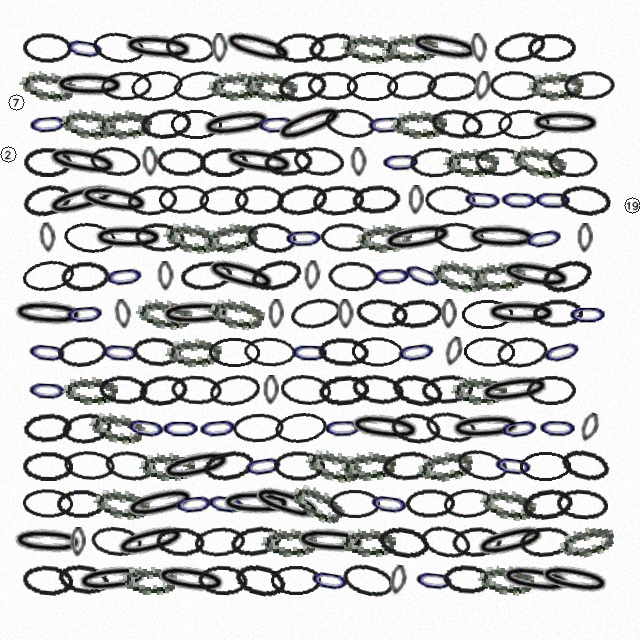chain: (270, 97, 350, 151), (247, 479, 327, 529), (218, 24, 298, 72), (42, 176, 122, 224), (201, 252, 281, 300), (111, 518, 191, 565), (471, 518, 551, 565), (121, 481, 200, 526), (157, 444, 236, 488), (405, 26, 484, 69), (43, 141, 122, 183), (535, 559, 614, 601), (75, 179, 153, 221), (379, 217, 457, 259), (286, 478, 349, 529), (497, 255, 575, 296), (198, 104, 276, 144), (220, 142, 298, 182), (476, 370, 554, 410), (152, 560, 230, 600), (497, 560, 575, 600), (346, 409, 424, 447), (74, 561, 151, 598), (120, 30, 197, 66), (448, 410, 524, 445), (293, 524, 369, 559), (556, 520, 617, 563), (10, 297, 86, 331), (10, 525, 86, 559), (464, 221, 540, 254), (508, 141, 569, 182), (200, 217, 261, 258), (428, 255, 489, 296), (303, 445, 364, 486), (339, 559, 397, 601), (158, 298, 234, 330), (415, 446, 475, 486), (538, 255, 595, 297), (87, 408, 147, 447), (491, 27, 548, 68), (454, 445, 511, 486), (52, 70, 127, 101), (528, 108, 603, 139), (484, 298, 559, 329), (219, 488, 294, 519), (248, 255, 304, 296), (478, 485, 538, 523), (558, 445, 613, 486), (418, 521, 473, 562), (91, 223, 166, 253), (389, 370, 445, 410), (232, 560, 288, 600), (20, 180, 75, 220), (288, 294, 344, 333), (423, 408, 479, 447), (18, 67, 77, 104), (162, 219, 221, 256), (207, 295, 266, 332), (92, 485, 151, 522), (398, 254, 448, 297), (171, 67, 227, 105), (240, 68, 299, 104), (207, 371, 262, 409), (201, 447, 256, 485), (376, 523, 431, 561), (91, 29, 147, 66), (20, 257, 76, 294), (129, 67, 184, 104), (274, 181, 329, 218), (432, 219, 487, 256), (350, 371, 405, 408), (228, 523, 283, 560), (59, 106, 117, 141), (355, 220, 413, 255), (135, 296, 193, 331), (339, 448, 397, 483), (306, 29, 360, 66), (323, 105, 377, 142), (245, 219, 299, 256), (56, 561, 110, 598), (429, 106, 484, 142), (103, 448, 158, 484), (340, 31, 398, 65), (95, 107, 153, 141), (62, 220, 118, 255), (460, 106, 514, 142), (558, 182, 612, 218), (495, 334, 549, 370), (60, 410, 114, 446), (389, 410, 443, 446), (520, 486, 574, 522), (354, 296, 409, 331), (273, 410, 328, 445), (477, 563, 535, 596), (276, 68, 329, 104), (137, 372, 190, 408), (385, 68, 439, 103), (88, 144, 142, 179), (292, 144, 346, 179), (89, 524, 143, 559), (207, 69, 264, 102), (527, 69, 584, 102), (538, 332, 586, 371), (139, 106, 192, 141), (56, 334, 109, 369), (279, 372, 332, 407), (311, 183, 365, 217), (179, 259, 233, 293), (381, 449, 435, 483), (555, 487, 609, 521), (193, 525, 247, 559), (469, 260, 526, 292), (165, 336, 222, 368), (164, 30, 216, 65), (390, 297, 443, 331), (317, 373, 370, 407), (21, 563, 74, 597), (420, 373, 474, 406), (442, 487, 496, 520), (518, 525, 572, 558), (126, 183, 178, 217), (131, 335, 183, 369), (22, 411, 74, 445), (382, 32, 438, 63), (497, 108, 551, 140), (134, 221, 186, 254), (63, 449, 115, 482), (451, 525, 503, 558), (426, 70, 479, 102), (409, 146, 462, 178), (474, 146, 527, 178), (424, 184, 477, 216), (243, 336, 296, 368), (232, 412, 285, 444), (351, 183, 402, 216), (442, 563, 493, 596), (391, 109, 447, 139), (443, 147, 499, 177), (62, 375, 118, 405), (451, 375, 507, 405), (139, 451, 195, 481), (261, 527, 317, 557), (340, 527, 396, 557), (121, 565, 177, 595), (100, 70, 152, 102), (547, 146, 599, 178), (198, 184, 250, 216), (327, 260, 379, 292), (317, 336, 369, 368), (170, 374, 222, 406), (197, 564, 249, 596), (62, 30, 108, 66), (521, 220, 567, 256), (307, 562, 353, 598), (489, 70, 542, 101), (351, 336, 404, 367), (463, 336, 516, 367), (156, 146, 207, 178), (263, 146, 314, 178), (60, 260, 111, 292), (98, 374, 149, 406), (155, 526, 206, 558), (274, 32, 326, 63), (563, 70, 615, 101), (158, 184, 210, 215), (273, 450, 325, 481), (22, 488, 74, 519), (170, 109, 223, 139), (461, 299, 514, 329), (519, 451, 572, 481), (22, 32, 73, 63), (234, 184, 285, 215), (320, 222, 371, 253), (532, 298, 583, 329), (405, 488, 456, 519), (394, 334, 439, 369), (124, 410, 169, 445), (241, 448, 286, 483), (491, 448, 536, 483), (204, 486, 249, 521), (367, 486, 412, 521), (307, 71, 359, 101), (346, 71, 398, 101), (208, 337, 260, 367), (270, 565, 322, 595), (102, 259, 147, 293), (25, 335, 70, 369), (526, 375, 577, 405), (497, 411, 542, 445), (22, 451, 73, 481), (329, 489, 380, 519), (412, 563, 457, 597), (527, 33, 577, 63), (23, 147, 73, 177), (199, 147, 249, 177), (56, 489, 106, 519), (26, 107, 70, 140), (461, 183, 505, 216), (63, 297, 107, 330), (196, 411, 240, 444), (172, 487, 216, 520), (255, 108, 298, 140), (365, 108, 408, 140), (99, 336, 142, 368), (26, 374, 69, 406), (498, 184, 541, 215), (380, 146, 422, 177), (532, 184, 574, 215), (283, 222, 325, 253), (371, 260, 413, 291), (322, 412, 364, 443), (537, 412, 579, 443), (567, 299, 609, 329), (289, 337, 331, 367), (160, 413, 202, 443), (577, 411, 602, 444), (442, 335, 465, 368), (472, 70, 493, 102), (469, 32, 489, 64), (113, 298, 133, 330), (388, 564, 408, 596), (38, 222, 57, 253), (141, 146, 159, 177), (303, 260, 321, 291), (211, 33, 228, 63), (350, 147, 367, 177), (157, 261, 174, 291), (337, 299, 354, 329), (408, 185, 424, 215), (577, 223, 593, 253), (268, 299, 284, 329), (441, 299, 457, 329), (263, 375, 279, 405), (70, 527, 86, 557)
noise: (6, 92, 26, 112), (622, 195, 640, 215), (0, 144, 18, 164)
